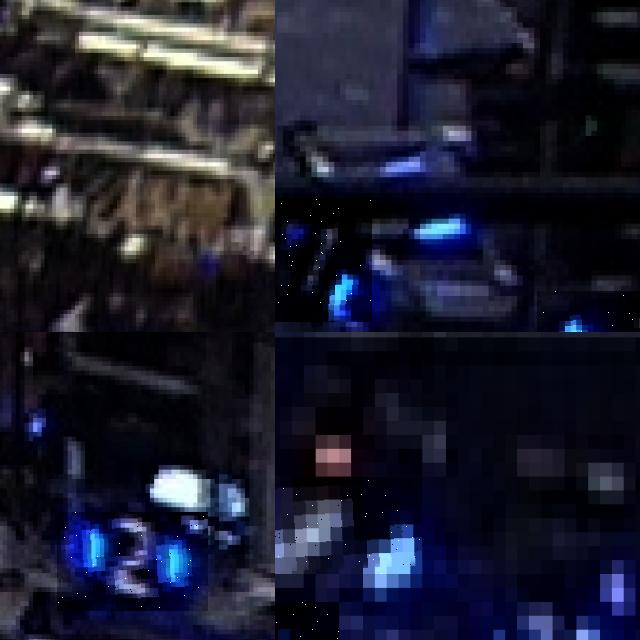B1: (275, 198, 371, 322), (537, 291, 640, 332)
B2: (57, 512, 208, 611)
B3: (275, 476, 422, 574), (422, 574, 640, 640)
